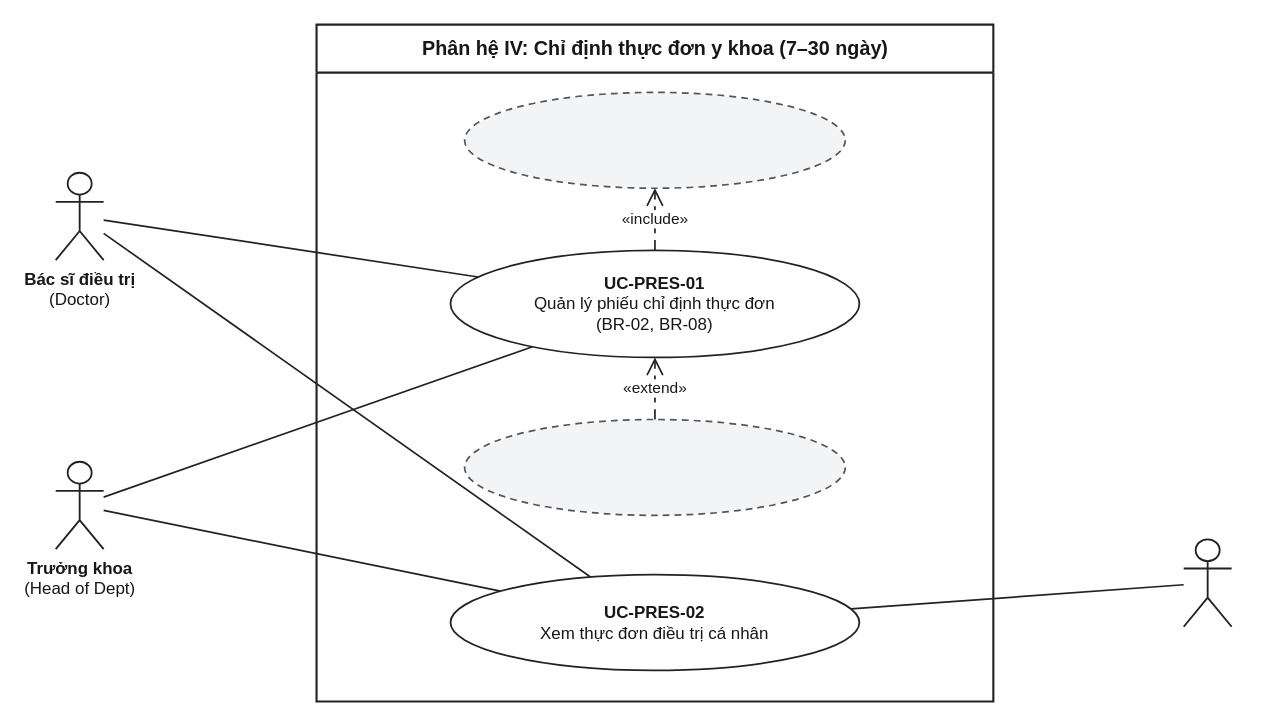
Image size: 1276x728. Some labels were removed from this diagram. Here are the shapes that lost their labels. From the top down, the centre of each, then its label:
At point 654,139: "UC-FOOD-01 Tra cứu danh mục món ăn (từ Phân hệ III)".
At point 654,466: "UC-PLAN-01 Thực đơn mẫu (từ Phân hệ III)".
At point 1207,582: "Bệnh nhân (Patient)".
